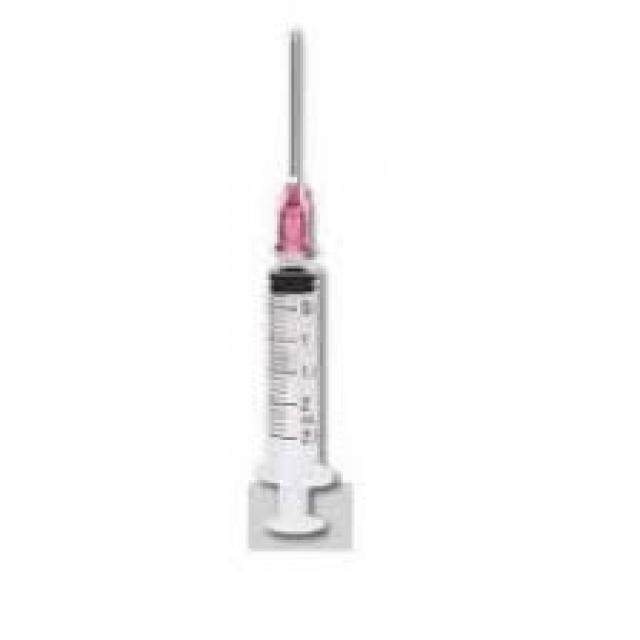syringe: (194, 8, 424, 608)
